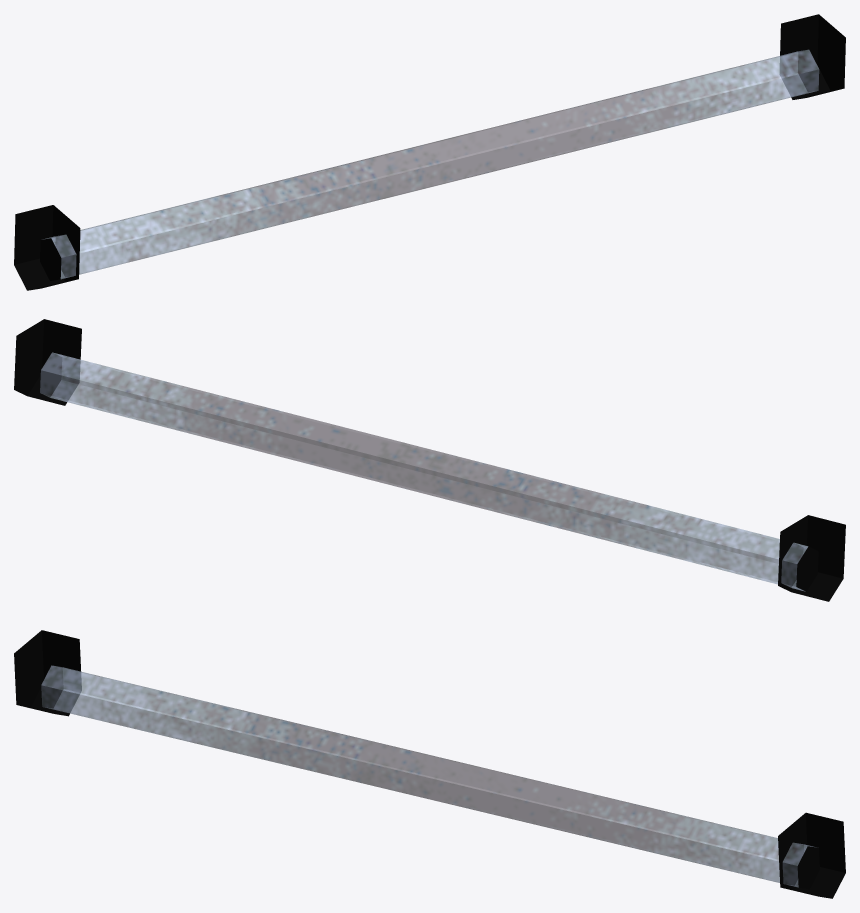
Rendered from TuboLuz_LGJ2026.fbx.
3 renders of one model, top to bottom at view 1: azimuth 30°, elevation 25°; view 2: azimuth 150°, elevation 25°; view 3: azimuth 330°, elevation 25°, orthographic.
Visible parts, largest first — view 1: Luz Fluorescente; view 2: Luz Fluorescente; view 3: Luz Fluorescente.
Part boxes in pixels (x1,y1,x2,y2): Luz Fluorescente: [14, 14, 845, 290]; Luz Fluorescente: [14, 319, 845, 601]; Luz Fluorescente: [14, 630, 845, 898].
Size of the model in its own units: 1.06 by 0.0955 by 0.0743.
